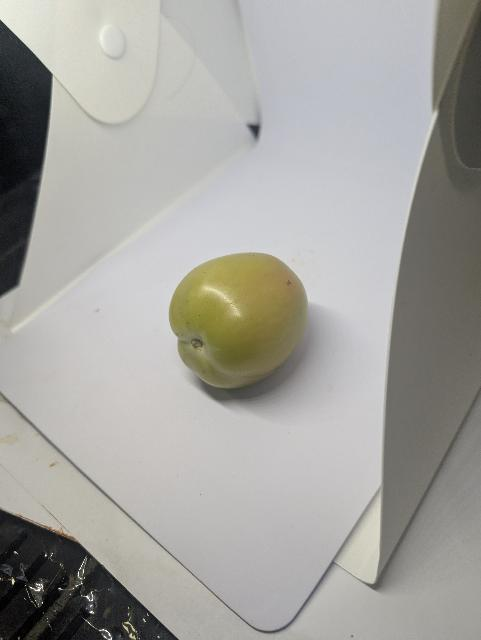breaker: (165, 250, 316, 395)
